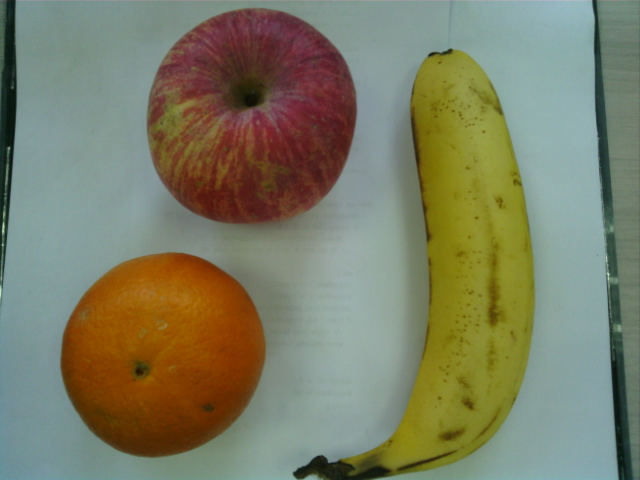normal_apple: (144, 7, 359, 224)
normal_banana: (360, 48, 539, 480)
normal_orange: (62, 250, 268, 459)
